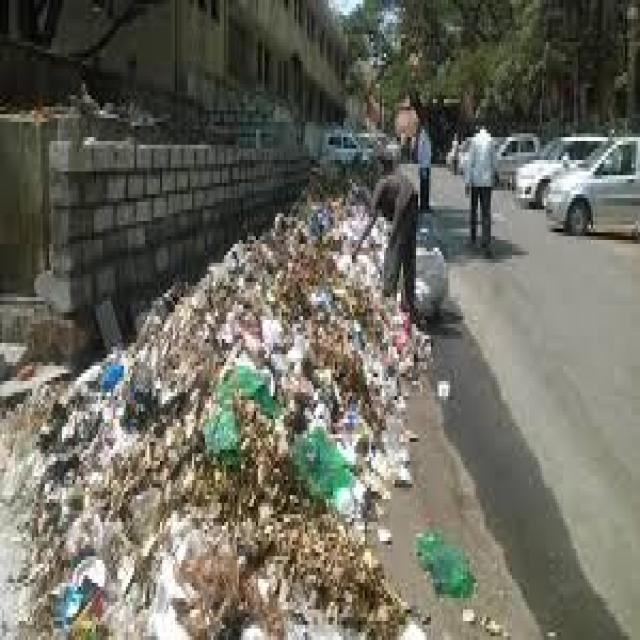garbage: (43, 193, 402, 626)
